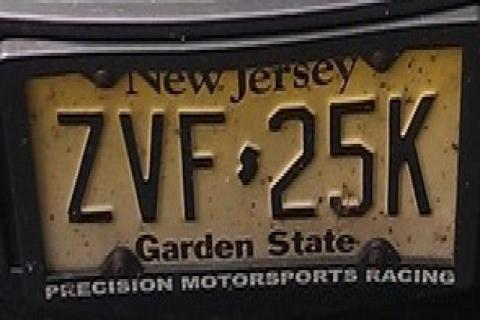LicensePlate: (10, 38, 460, 307)
